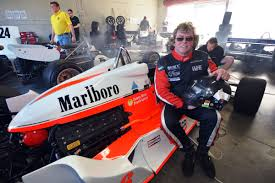f1_car: (1, 43, 270, 183)
